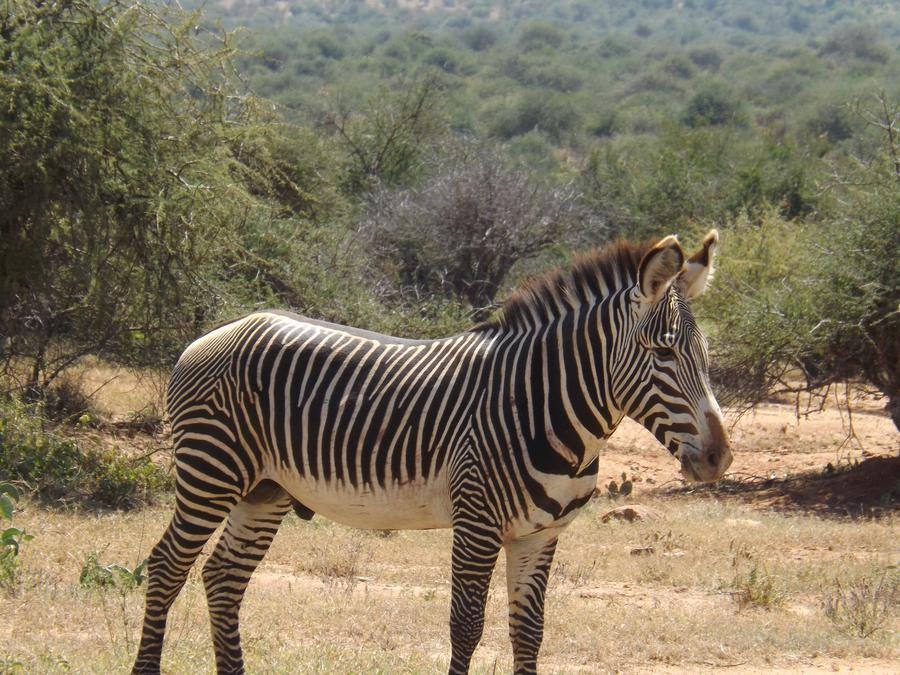zebra_grevys: (175, 284, 533, 524)
